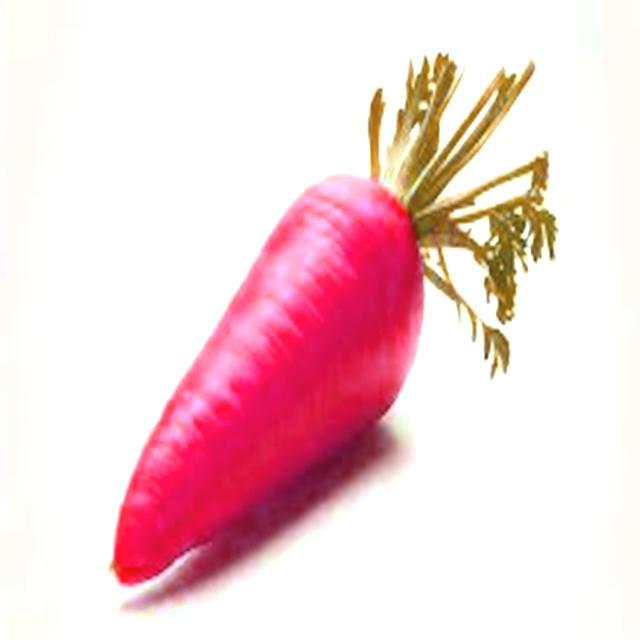carrot: (112, 54, 556, 583)
